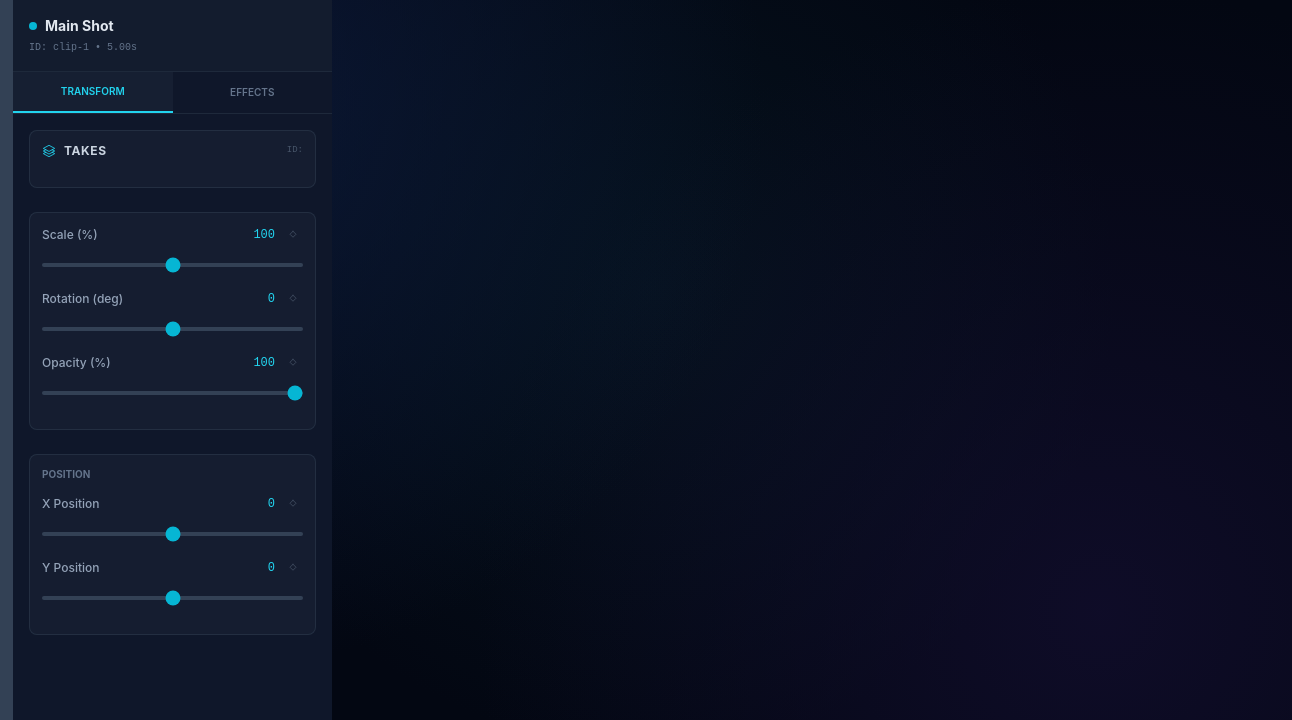
Scenario: InspectorPanel › tabs › should switch to Effects tab on click
What coordinates should you click on to do the following:
click the tab "Effects"
I would click on:
 (252, 92)
Its box is [172,72,332,113].
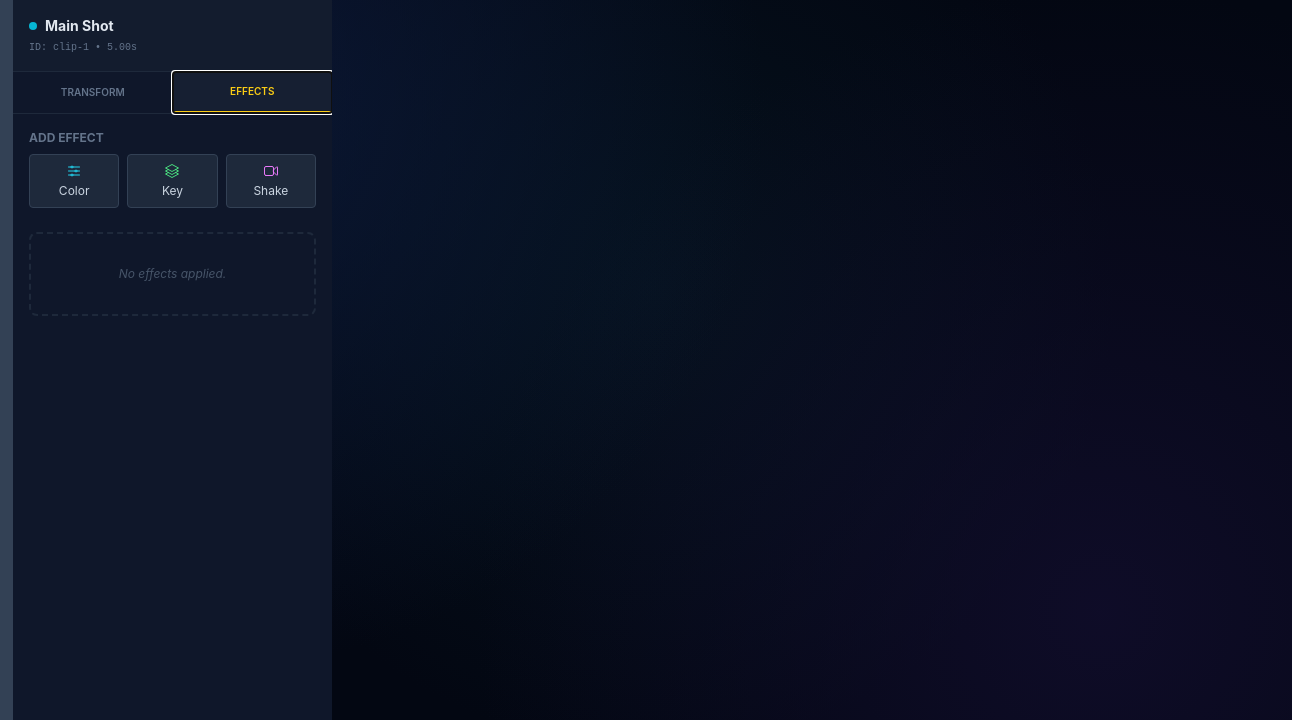
Check: the text "Add Effect" is shown, box [29,130,104,145]
